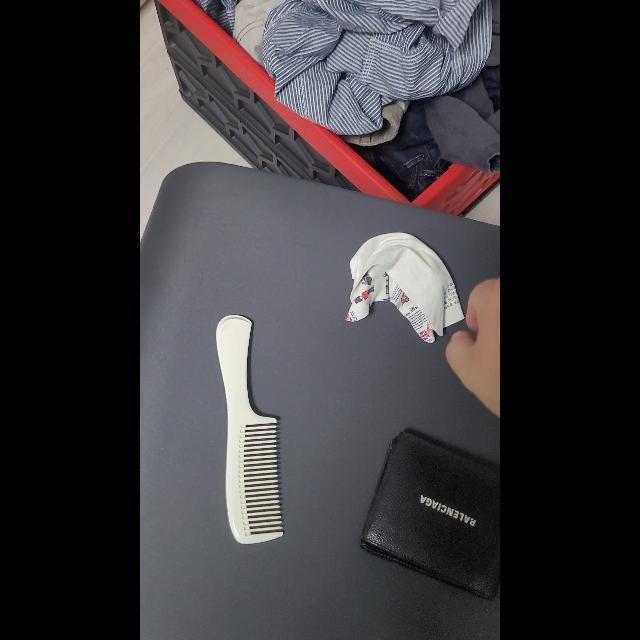COMB: (216, 315, 284, 545)
Glasses cleaning cloth: (346, 232, 464, 344)
WALLET: (360, 432, 500, 600)
